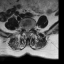CCS_stenosis: (26, 27, 28, 34)
LFS_severe_stenosis: (30, 26, 31, 31)
LLS_normal: (28, 27, 29, 33)
RFS_severe_stenosis: (23, 26, 25, 31)
RLS_normal: (25, 27, 26, 33)
